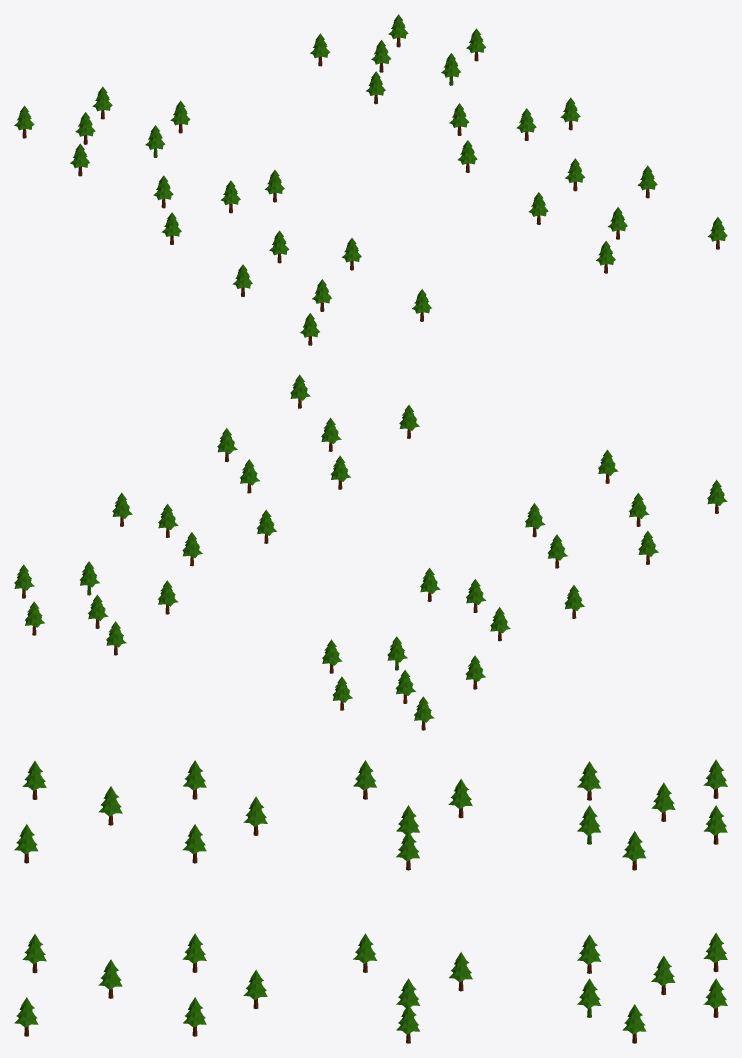
File: agaclar.fbx
3 renders of one model, top to bottom at view 1: azimuth 30°, elevation 25°; view 2: azimuth 150°, elevation 25°; view 3: azimuth 270°, elevation 25°, orthographic. The views are drawn at different scales.
Visible parts, largest first — view 1: polySurface76; view 2: polySurface76; view 3: polySurface76.
Boxes of the visible parts, left/top/right/bottom form: polySurface76: left=14, top=14, right=727, bottom=345; polySurface76: left=14, top=374, right=727, bottom=730; polySurface76: left=14, top=759, right=727, bottom=1043.
Size of the model in its own units: 2377 by 168 by 2812.
Materials: 1 (1 with a texture image).
